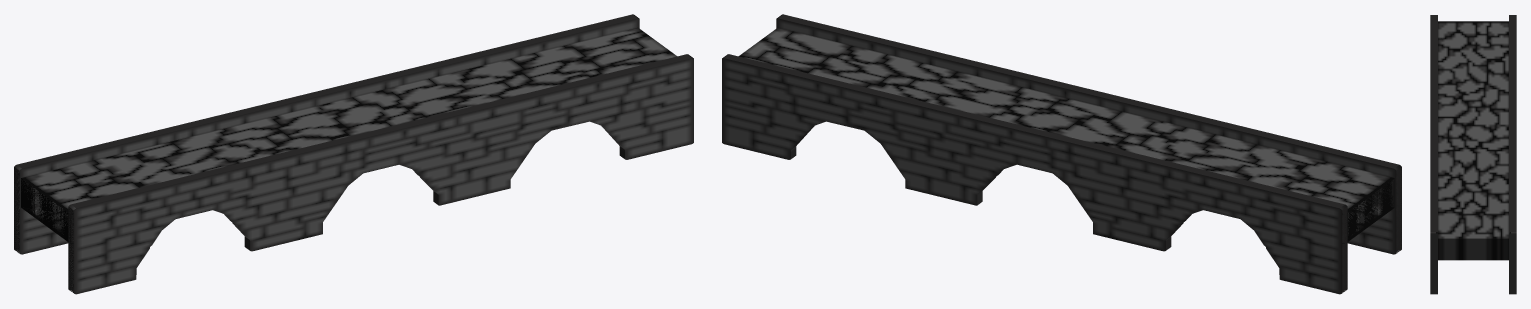
The model's file is Bridge.fbx.
3 renders of one model, left to right at view 1: azimuth 30°, elevation 25°; view 2: azimuth 150°, elevation 25°; view 3: azimuth 270°, elevation 25°, orthographic. The views are drawn at different scales.
Visible parts, largest first — view 1: Plane; view 2: Plane; view 3: Plane.
Part boxes in pixels (left/top/right/bottom): Plane: left=14, top=14, right=693, bottom=294; Plane: left=722, top=14, right=1401, bottom=294; Plane: left=1430, top=15, right=1516, bottom=294.
Size of the model in its own units: 659 by 87.36 by 110.
2 materials, 2 textured.
